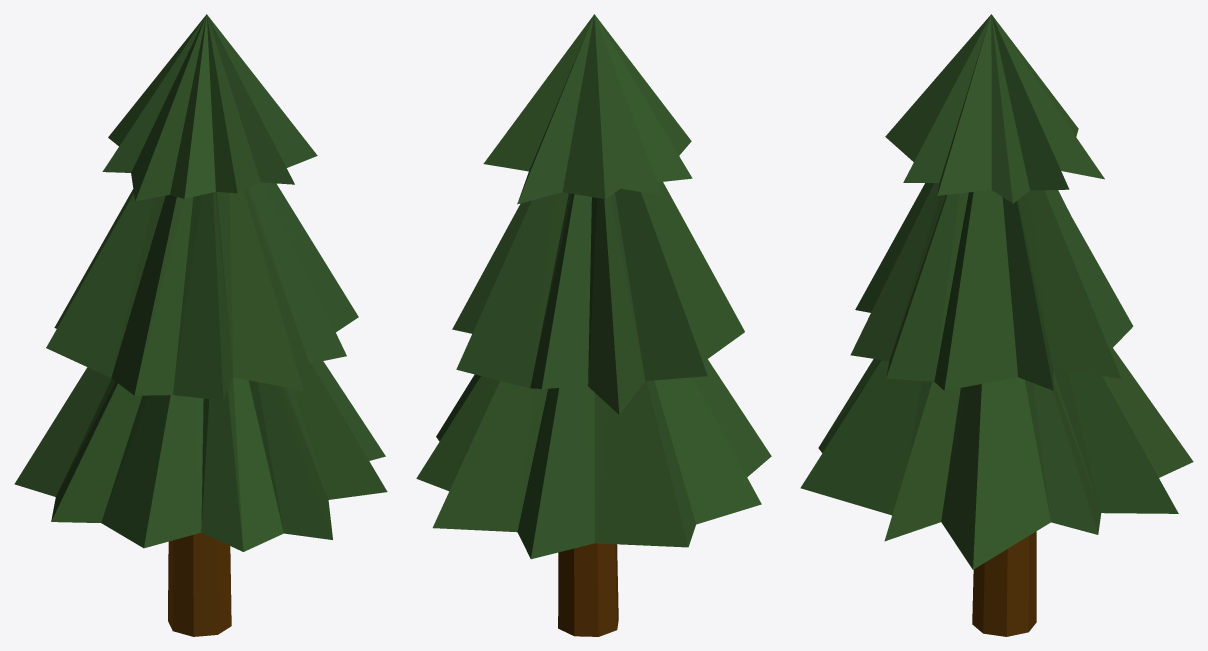
Rendered from Tree2.fbx.
3 views of the same model, side by side, from view 1: azimuth 30°, elevation 25°; view 2: azimuth 150°, elevation 25°; view 3: azimuth 270°, elevation 25° (orthographic).
Visible parts, largest first — view 1: Tree2; view 2: Tree2; view 3: Tree2.
Part boxes in pixels (x1,y1,x2,y2): Tree2: (14,14,387,636); Tree2: (416,14,771,636); Tree2: (800,14,1193,636).
Bounding box in the file's own units: 124 × 219 × 128.
